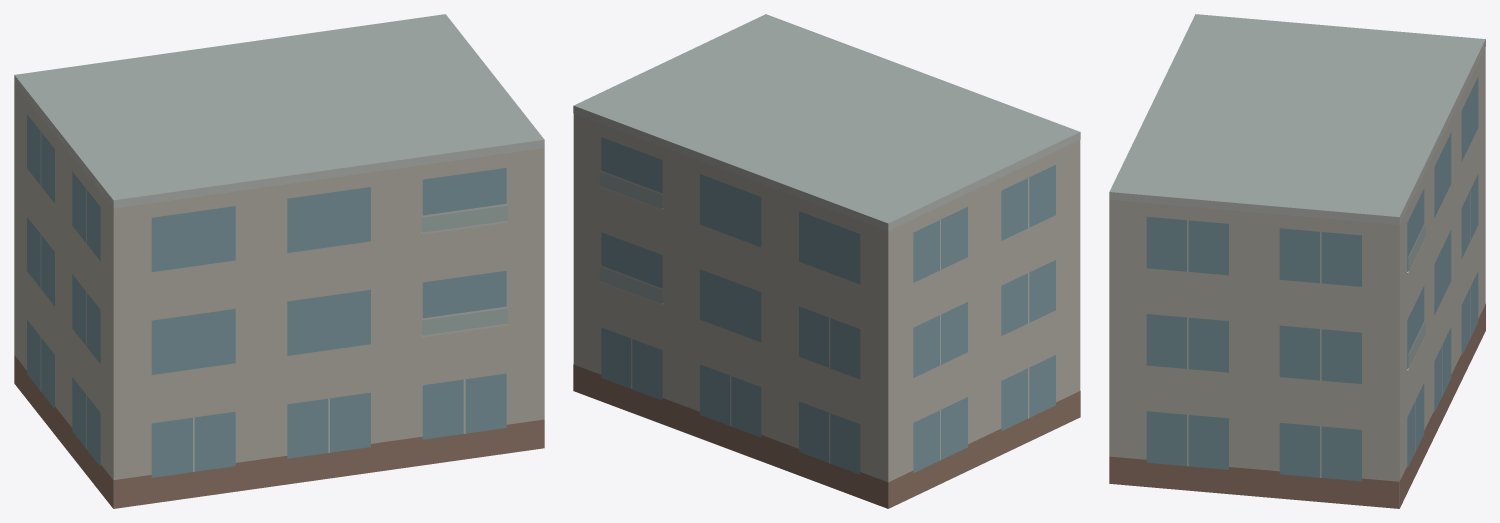
Rendered from residential-6175eece-c9aa-453b-8dde-e7b381c0b440.glb.
3 views of the same model, side by side, from view 1: azimuth 30°, elevation 25°; view 2: azimuth 150°, elevation 25°; view 3: azimuth 270°, elevation 25° (orthographic). The views are drawn at different scales.
Visible parts, largest first — view 1: residential-6175eece-c9aa-453b-8dde-e7b381c0b440.tmp; view 2: residential-6175eece-c9aa-453b-8dde-e7b381c0b440.tmp; view 3: residential-6175eece-c9aa-453b-8dde-e7b381c0b440.tmp.
Boxes of the visible parts, box(x1,y1,x2,y2) form: residential-6175eece-c9aa-453b-8dde-e7b381c0b440.tmp: box(14, 14, 544, 508); residential-6175eece-c9aa-453b-8dde-e7b381c0b440.tmp: box(573, 14, 1080, 508); residential-6175eece-c9aa-453b-8dde-e7b381c0b440.tmp: box(1109, 14, 1485, 508).
Size of the model in its own units: 13.67 by 9.15 by 10.71.
